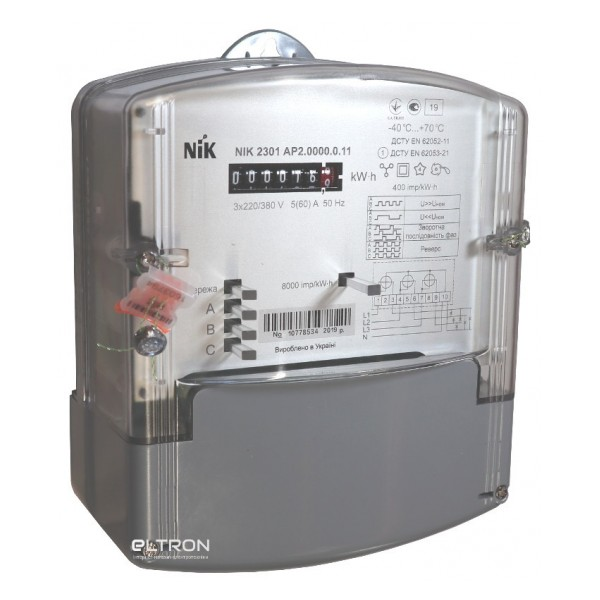counter: (126, 67, 512, 515)
counter_screen: (225, 160, 343, 195)
